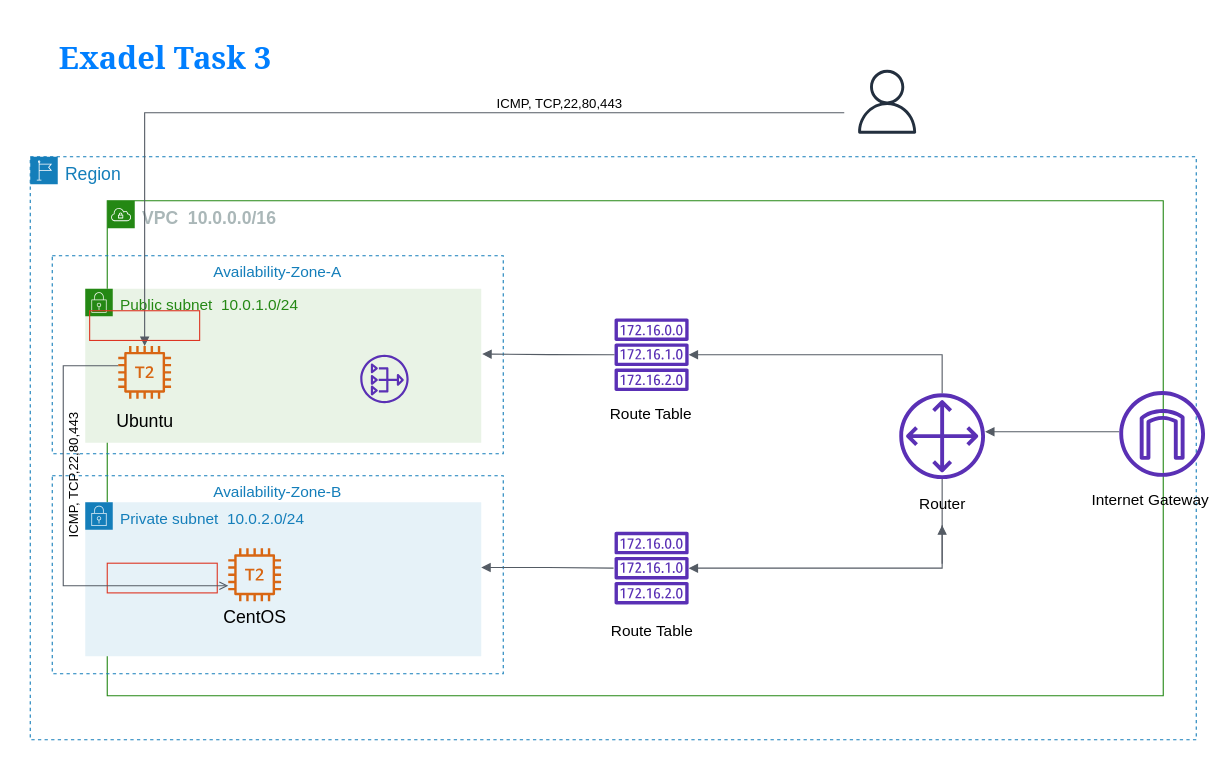
Some shapes in this 1228 by 759 pixel diagram are drawn without their labels. Here are the shapes that lost their labels. From the top down, the centre of each, then its label:
At (144,325): "allow_pub".
At (161,577): "allow_priv".
